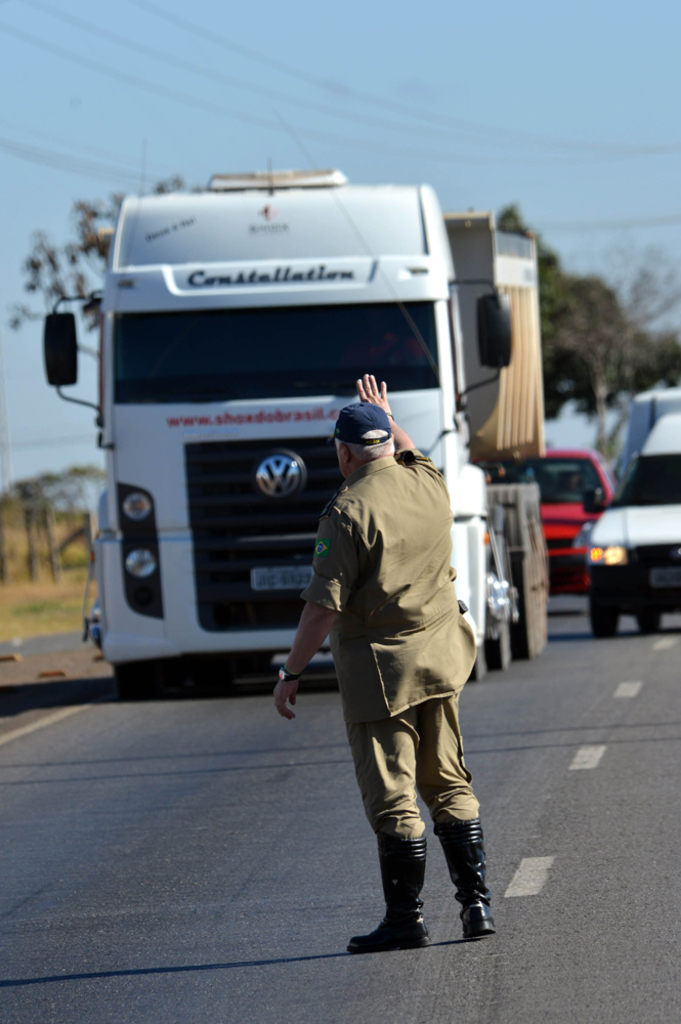car: (570, 377, 681, 658)
truck: (26, 149, 576, 692)
